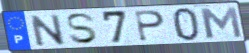0: (171, 7, 201, 42)
7: (100, 10, 130, 46)
M: (197, 6, 244, 40)
N: (28, 13, 68, 48)
P: (133, 10, 167, 43)
S: (64, 12, 100, 46)
